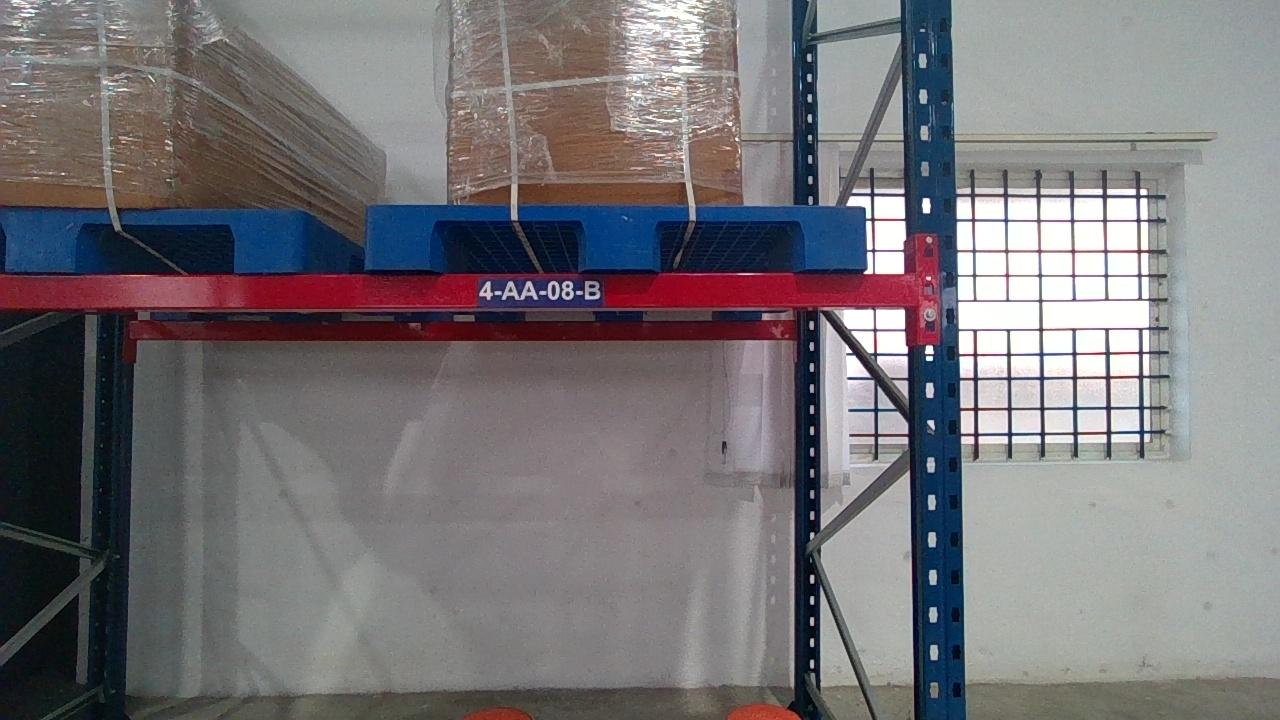h_rack: (1, 270, 920, 310)
small_pallet: (364, 203, 868, 267), (0, 207, 305, 269)
